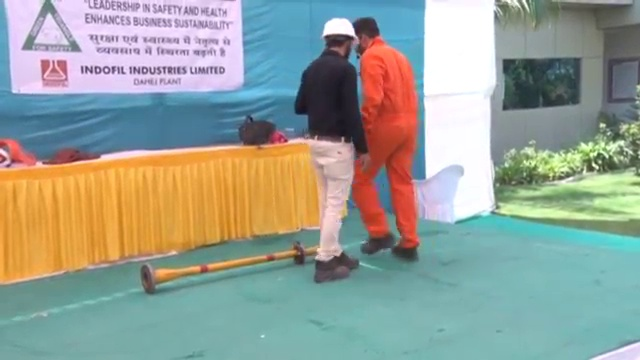helmet: (320, 16, 361, 47)
helmet_off: (352, 15, 378, 52)
helmet_on: (318, 16, 360, 57)
person: (293, 16, 371, 289), (353, 13, 427, 265)
